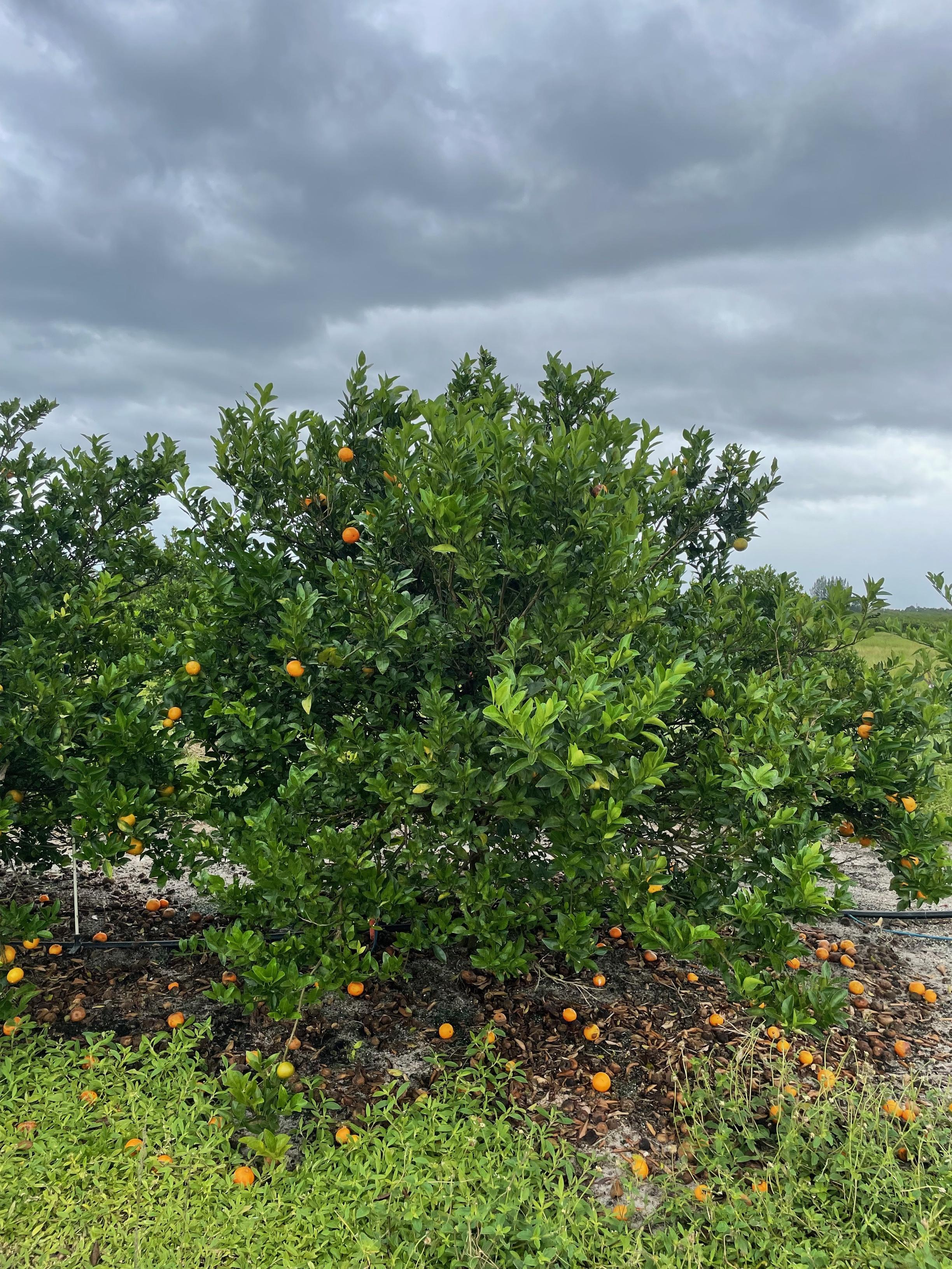fruit_on_ground: (122, 834, 147, 857), (284, 657, 308, 680), (114, 808, 138, 830), (340, 524, 362, 546), (3, 786, 26, 806), (275, 1060, 296, 1081), (183, 657, 204, 678), (643, 875, 665, 895), (345, 978, 366, 998), (336, 444, 356, 465), (380, 465, 402, 484), (589, 482, 610, 501), (900, 794, 919, 814), (855, 721, 875, 740), (105, 825, 125, 844), (889, 875, 910, 893), (899, 853, 920, 871), (157, 780, 177, 798), (859, 709, 878, 727), (837, 819, 856, 837), (165, 704, 184, 722), (312, 489, 329, 508), (731, 536, 750, 553), (884, 789, 902, 806), (702, 683, 719, 700), (297, 496, 315, 512), (913, 886, 930, 902), (160, 715, 176, 731), (0, 464, 15, 481), (857, 834, 873, 848), (666, 466, 680, 480)
fruit_on_tree: (231, 1164, 257, 1189), (627, 1155, 650, 1179), (123, 1134, 146, 1157), (2, 1014, 24, 1037), (691, 1182, 713, 1204), (580, 1021, 602, 1043), (590, 1070, 612, 1092), (152, 1153, 176, 1173), (610, 1203, 633, 1223), (4, 965, 25, 986), (243, 1047, 264, 1068), (332, 1124, 353, 1145), (816, 1068, 836, 1090), (206, 1111, 227, 1131), (436, 1021, 456, 1041), (880, 1097, 901, 1116), (892, 1038, 913, 1057), (733, 1191, 753, 1210), (768, 1103, 787, 1123), (166, 1010, 186, 1029), (67, 1005, 88, 1023), (282, 1034, 303, 1052), (78, 1087, 99, 1105), (80, 1053, 100, 1071), (751, 1177, 770, 1195), (560, 1005, 579, 1023), (220, 969, 240, 986), (1, 943, 18, 963), (708, 1010, 726, 1028), (590, 971, 608, 988), (345, 1133, 364, 1149), (850, 995, 870, 1010), (894, 1145, 911, 1162), (797, 1049, 814, 1066), (764, 1023, 782, 1039), (784, 954, 802, 970), (901, 1106, 919, 1122), (847, 979, 865, 995), (21, 934, 40, 949), (904, 1101, 921, 1117), (492, 1008, 508, 1025), (839, 951, 856, 967), (839, 937, 856, 953), (775, 1038, 793, 1053), (908, 981, 926, 996), (782, 1082, 798, 1098), (607, 924, 623, 940), (483, 1028, 498, 1044), (814, 945, 830, 960), (923, 988, 939, 1003), (642, 947, 657, 962), (47, 942, 63, 956), (816, 939, 832, 952), (161, 906, 177, 919), (144, 898, 160, 911), (92, 930, 109, 942), (166, 978, 181, 991), (685, 970, 700, 983), (37, 891, 52, 904), (828, 941, 842, 954), (189, 909, 202, 922), (73, 991, 87, 1003), (158, 897, 172, 909), (844, 946, 858, 957), (797, 930, 809, 941)
